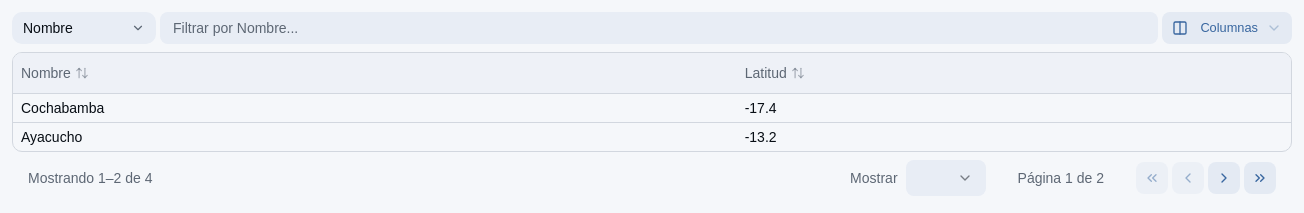
it: DataTable pagination, client side › advances a page and moves the count with it
This screenshot has width=1304, height=213.
Click the 3rd button named "Página siguiente".
click(1224, 178)  # box [1208, 162, 1240, 194]
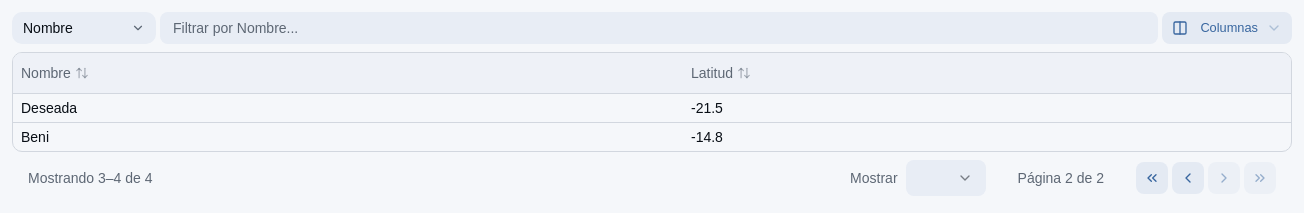
expect the text "Mostrando 3–4 de 4" is shown: met, box [28, 170, 152, 186]
